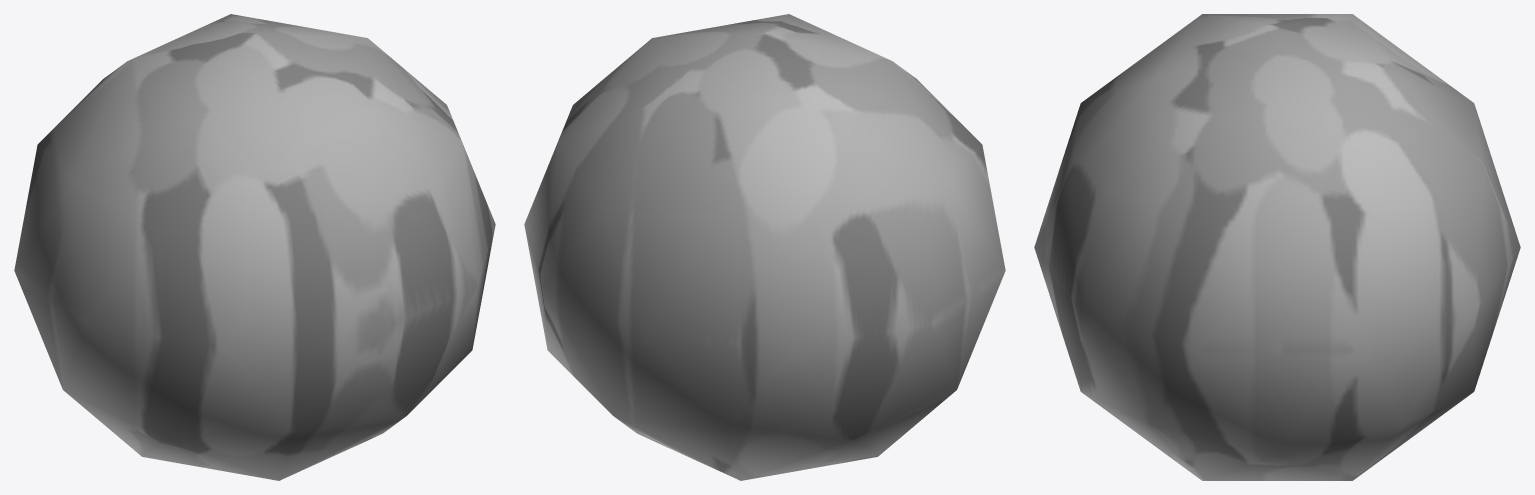
The model's file is smoke1.fbx.
The picture shows the model from 3 angles, left to right: view 1: azimuth 30°, elevation 25°; view 2: azimuth 150°, elevation 25°; view 3: azimuth 270°, elevation 25°; orthographic projection. The views are drawn at different scales.
Visible parts, largest first — view 1: Sphere; view 2: Sphere; view 3: Sphere.
Part boxes in pixels (x1,y1,x2,y2): Sphere: (14, 14, 495, 480); Sphere: (524, 14, 1005, 480); Sphere: (1034, 14, 1520, 480).
Size of the model in its own units: 1 by 1 by 1.
1 material, 1 textured.
